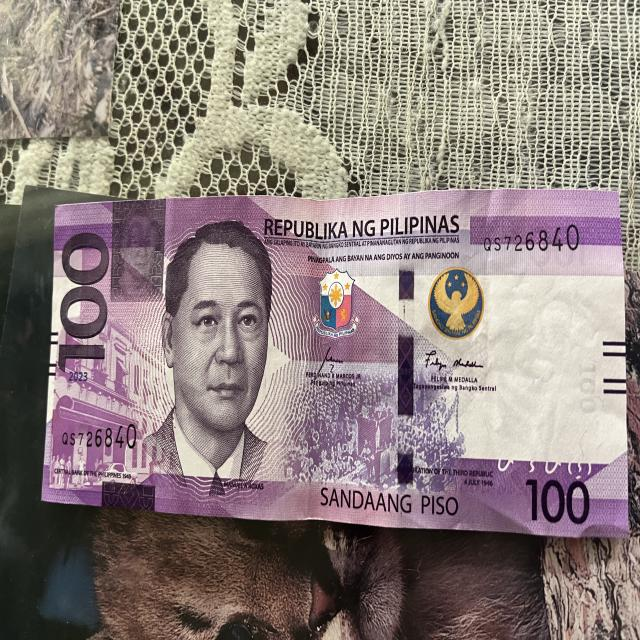concealed_value: (109, 200, 165, 302)
security_thread: (396, 194, 416, 519)
see_through_mark: (486, 433, 592, 486)
serial_number: (476, 216, 580, 254), (57, 416, 140, 455)
value: (52, 226, 110, 372)
value_watermark: (574, 361, 599, 427)
watermark: (476, 267, 600, 460)
